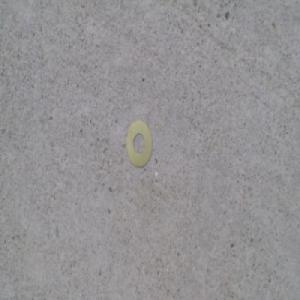Washer: (125, 120, 153, 170)
